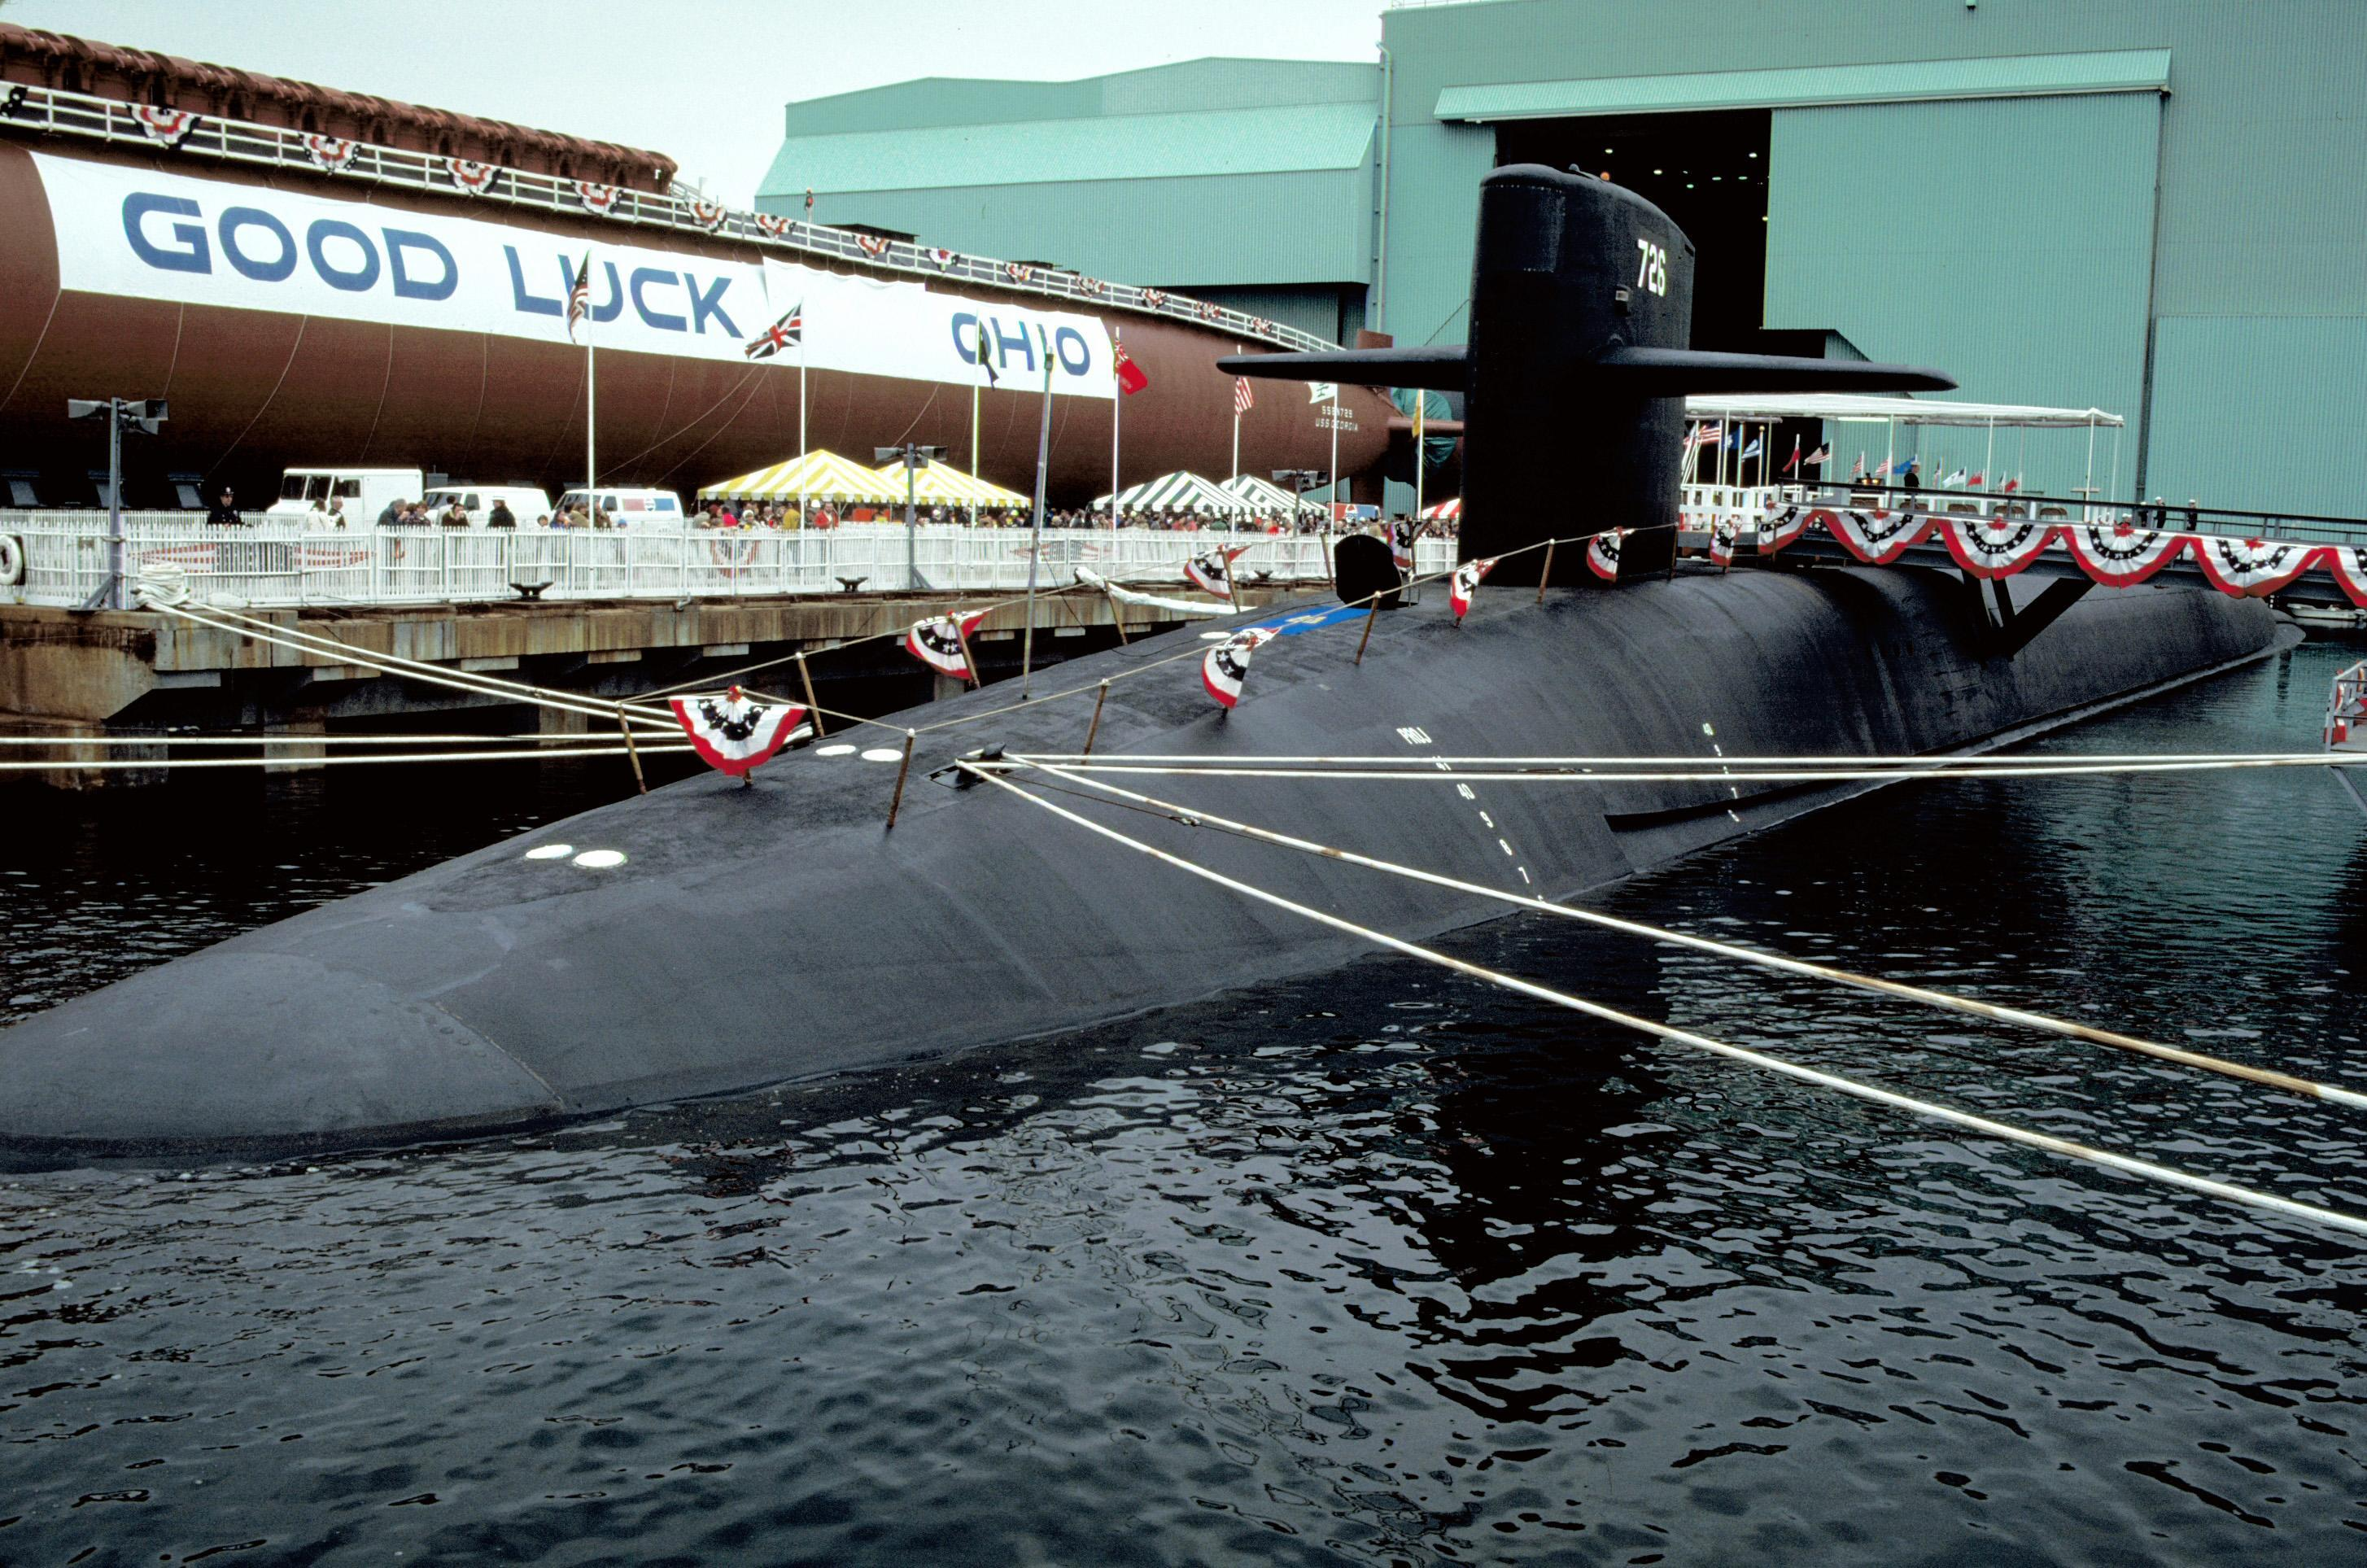Submarine: (0, 86, 2351, 1228)
